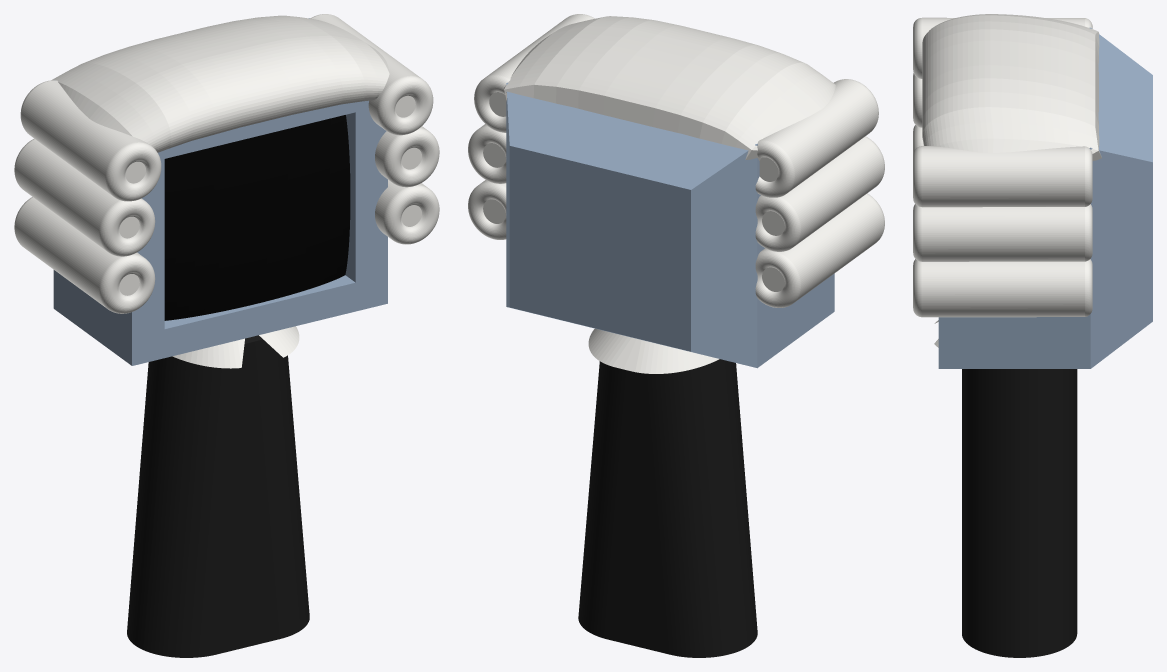
File: judge.glb
The picture shows the model from 3 angles, left to right: view 1: azimuth 30°, elevation 25°; view 2: azimuth 150°, elevation 25°; view 3: azimuth 270°, elevation 25°; orthographic projection. The views are drawn at different scales.
Visible parts, largest first — view 1: judge; view 2: judge; view 3: judge.
Part boxes in pixels (x1,y1,x2,y2): judge: (14,14,439,657); judge: (468,14,884,657); judge: (913,14,1152,657).
Size of the model in its own units: 3.11 by 5.13 by 1.97.
1 material, 1 textured.
